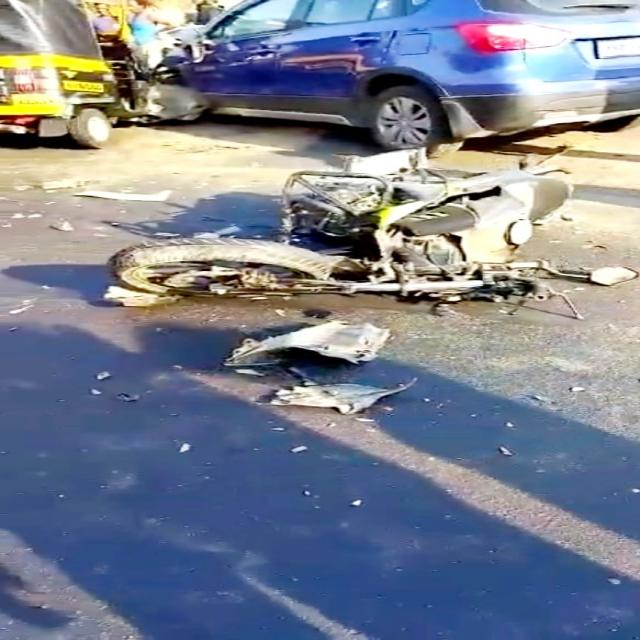accident: (109, 150, 634, 302), (0, 0, 206, 147)
car: (176, 0, 639, 154)
